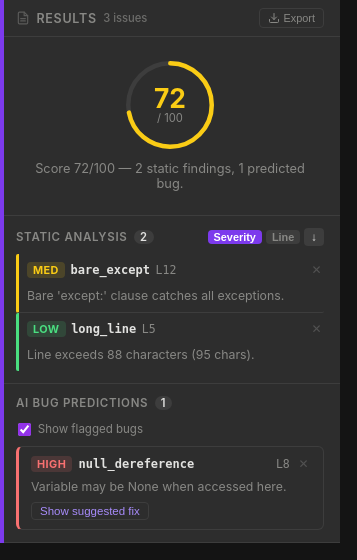
Test: ResultsPanel — ignore buttons › ignoring a finding removes it from the list
This screenshot has width=357, height=560.
Click the 1st button titled "Ignore this finding" at (317, 270), box [309, 264, 324, 276]
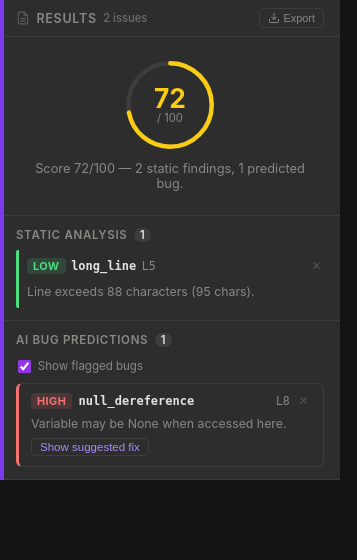
Expected: the text "long_line" is shown, [71, 259, 136, 273]
Now the button "bare_except" is gone
